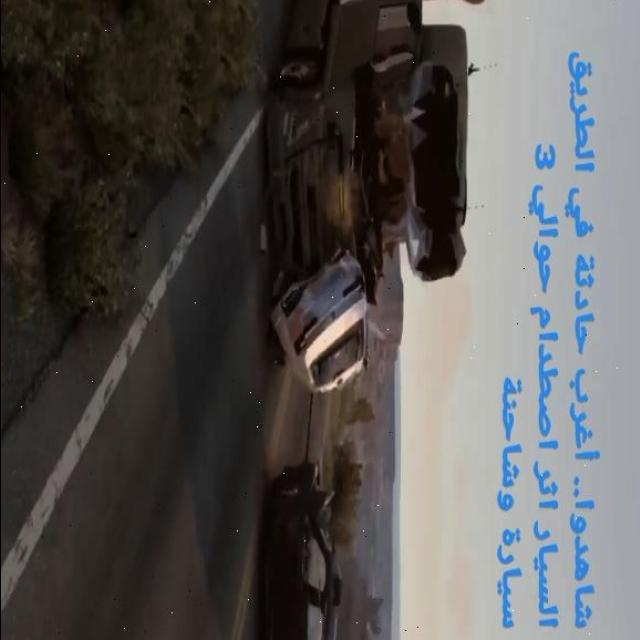accident: (255, 0, 474, 413)
